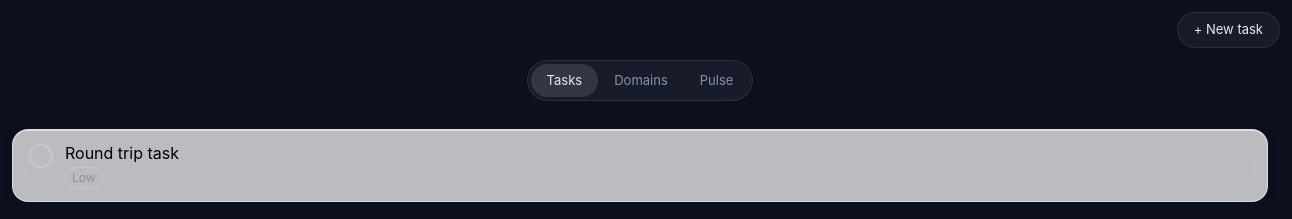
Test case: TasksView — Segmented sub-nav (S58) › switching back to Tasks restores the task list
Click the tab "Domains" at (641, 80), box x1=598 y1=64 x2=684 y2=97
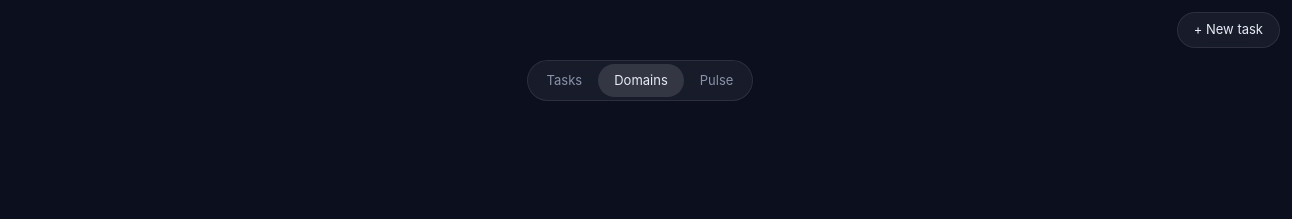
Click the tab "Tasks" at (564, 80), box x1=531 y1=64 x2=598 y2=97
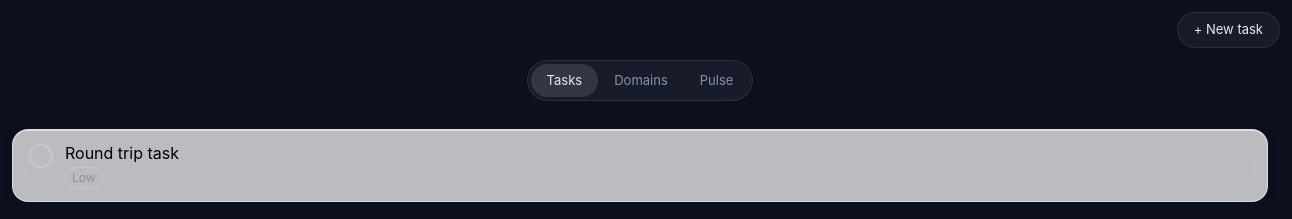
Expected: the text "Round trip task" is shown, x1=65 y1=143 x2=179 y2=163
